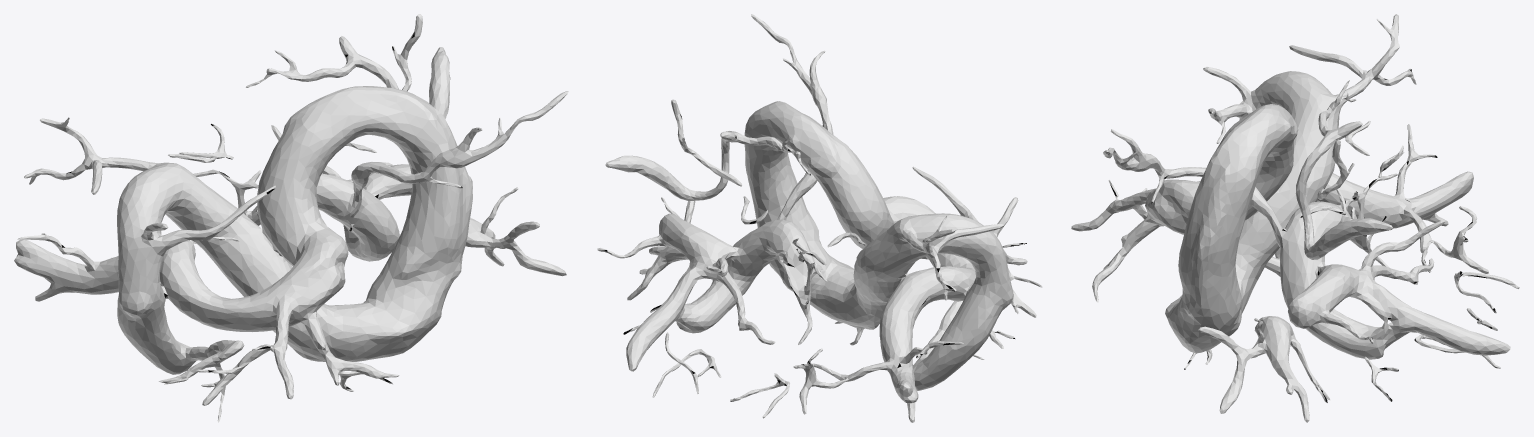
File: branch01.glb
3 views of the same model, side by side, from view 1: azimuth 30°, elevation 25°; view 2: azimuth 150°, elevation 25°; view 3: azimuth 270°, elevation 25° (orthographic). The views are drawn at different scales.
Visible parts, largest first — view 1: Low; view 2: Low; view 3: Low.
Part boxes in pixels (bbox=[...]): Low: bbox=[14, 14, 568, 422]; Low: bbox=[597, 14, 1042, 422]; Low: bbox=[1071, 14, 1519, 422].
Size of the model in its own units: 1.95 by 1.23 by 1.71.
Materials: 1 (1 with a texture image).
